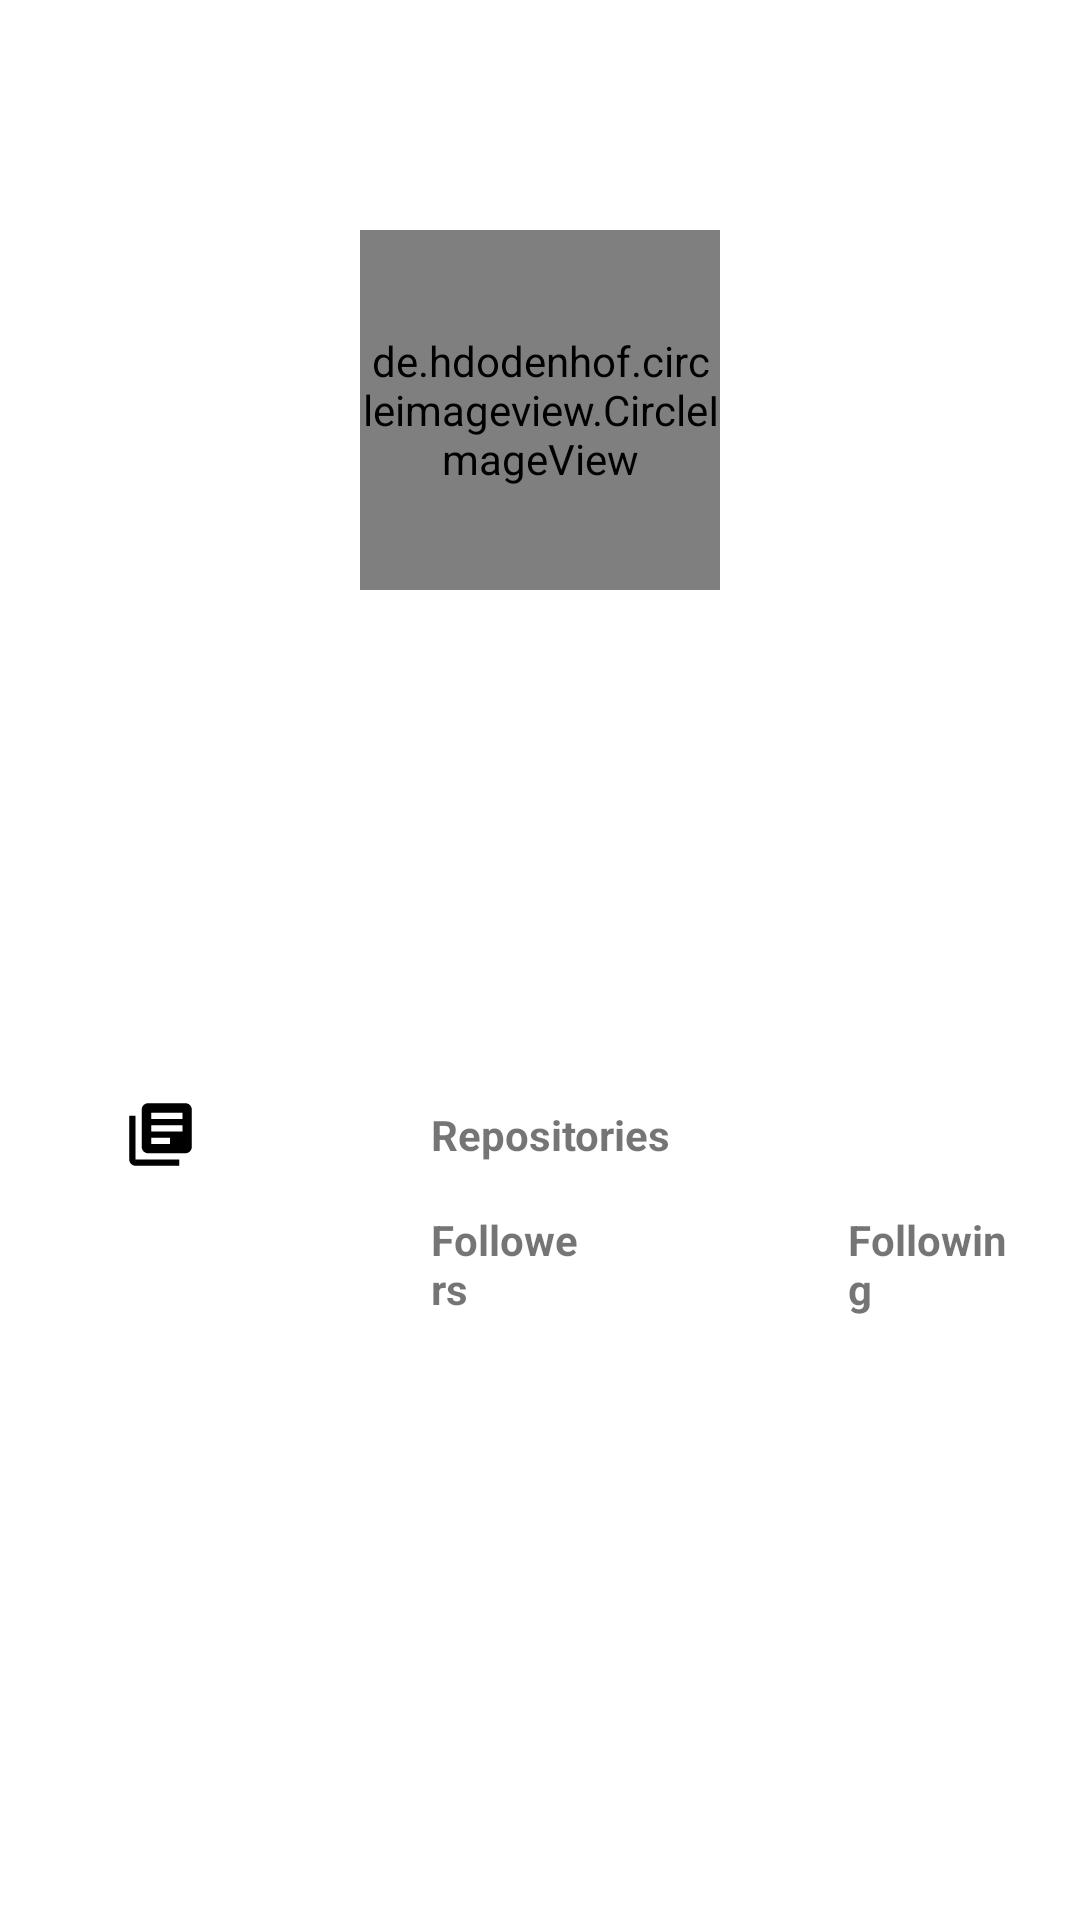

Icon click points for this 1080x1920 phone screenshot, format point (x, y):
Image For Icon Repositories: point (160, 1134)
